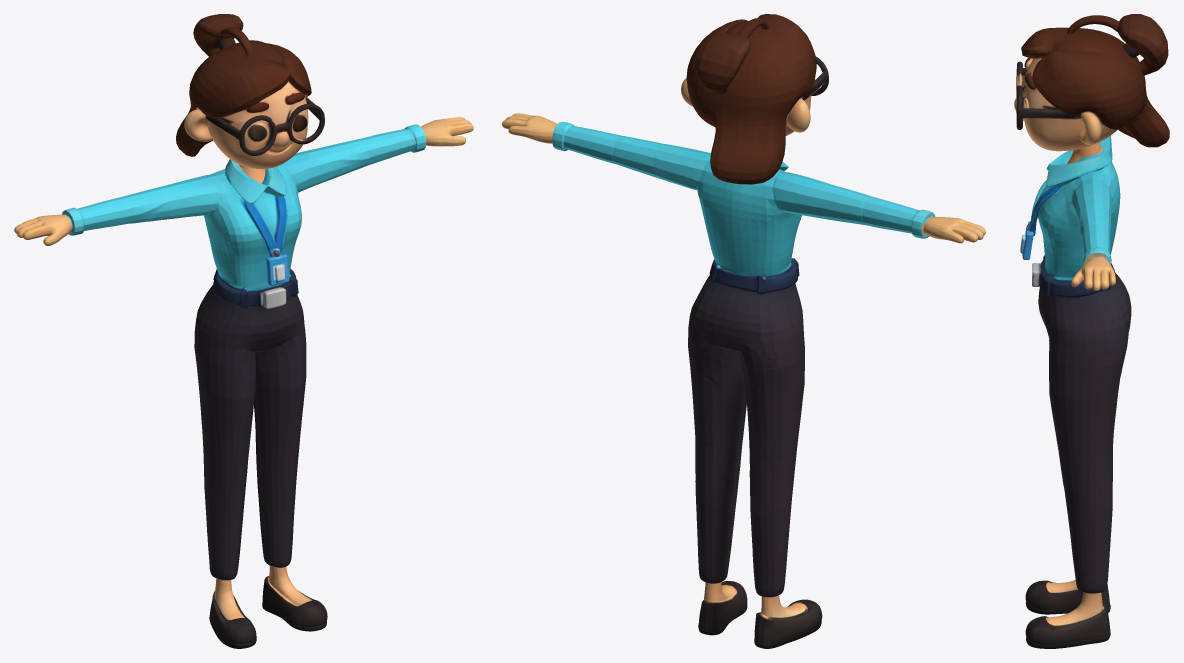
Rendered from tripo_convert_4be6130a-81a5-4670-960d-3ba0e1721fba.fbx.
3 renders of one model, left to right at view 1: azimuth 30°, elevation 25°; view 2: azimuth 150°, elevation 25°; view 3: azimuth 270°, elevation 25°, orthographic. The views are drawn at different scales.
Visible parts, largest first — view 1: tripo_node_4be6130a; view 2: tripo_node_4be6130a; view 3: tripo_node_4be6130a.
Boxes of the visible parts, x1,y1,x2,y2 form: tripo_node_4be6130a: (14, 14, 473, 648); tripo_node_4be6130a: (502, 14, 985, 648); tripo_node_4be6130a: (1014, 14, 1169, 648).
Size of the model in its own units: 0.8081 by 1 by 0.2344.
1 material, 1 textured.
